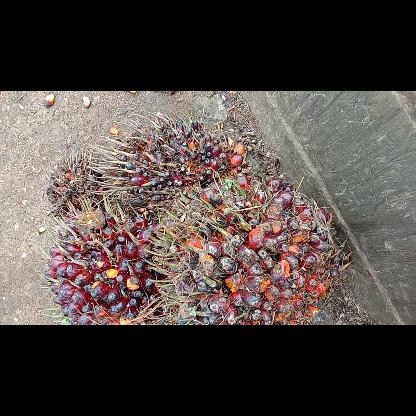TBS abnormal: (84, 111, 252, 223), (42, 144, 110, 219)
TBS masak: (140, 180, 358, 324), (36, 196, 172, 324)
